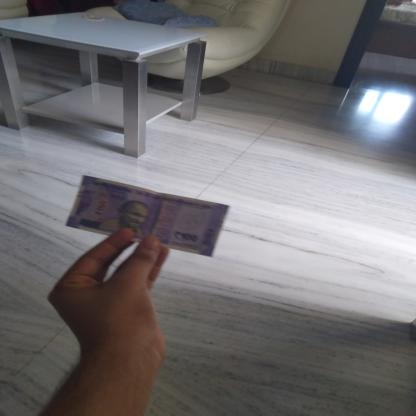New100Front: (72, 180, 214, 252)
